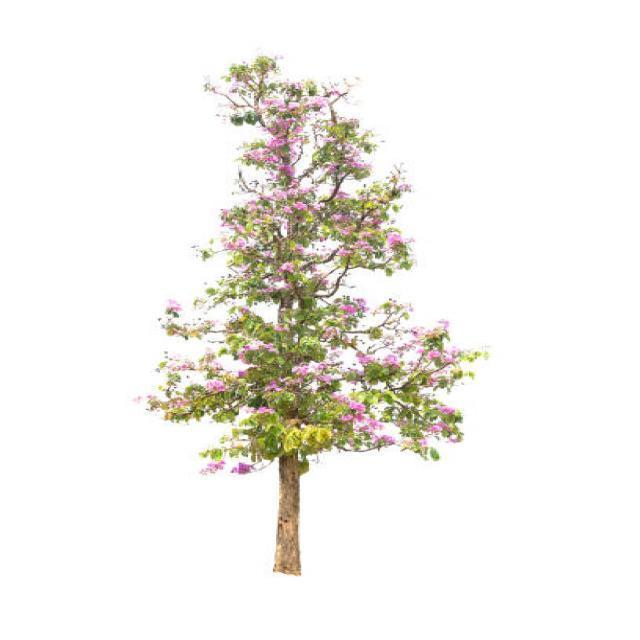tree: (143, 29, 481, 578)
